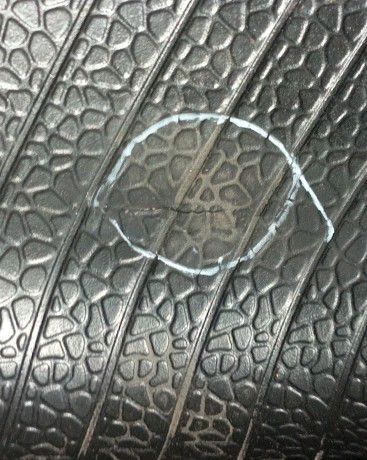CBU: (97, 193, 276, 225)
